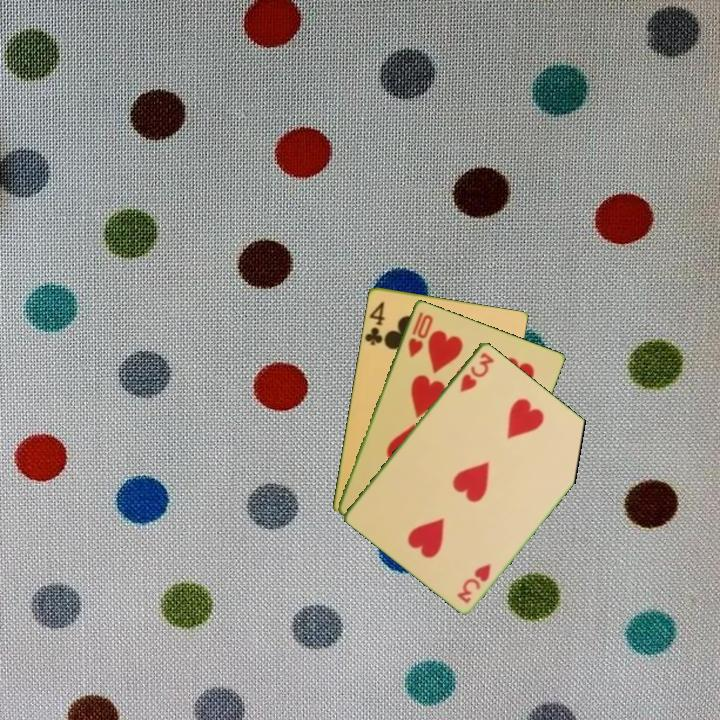10h: (404, 308, 436, 360)
3h: (456, 348, 497, 395), (453, 559, 494, 606)
4c: (361, 298, 388, 348)
